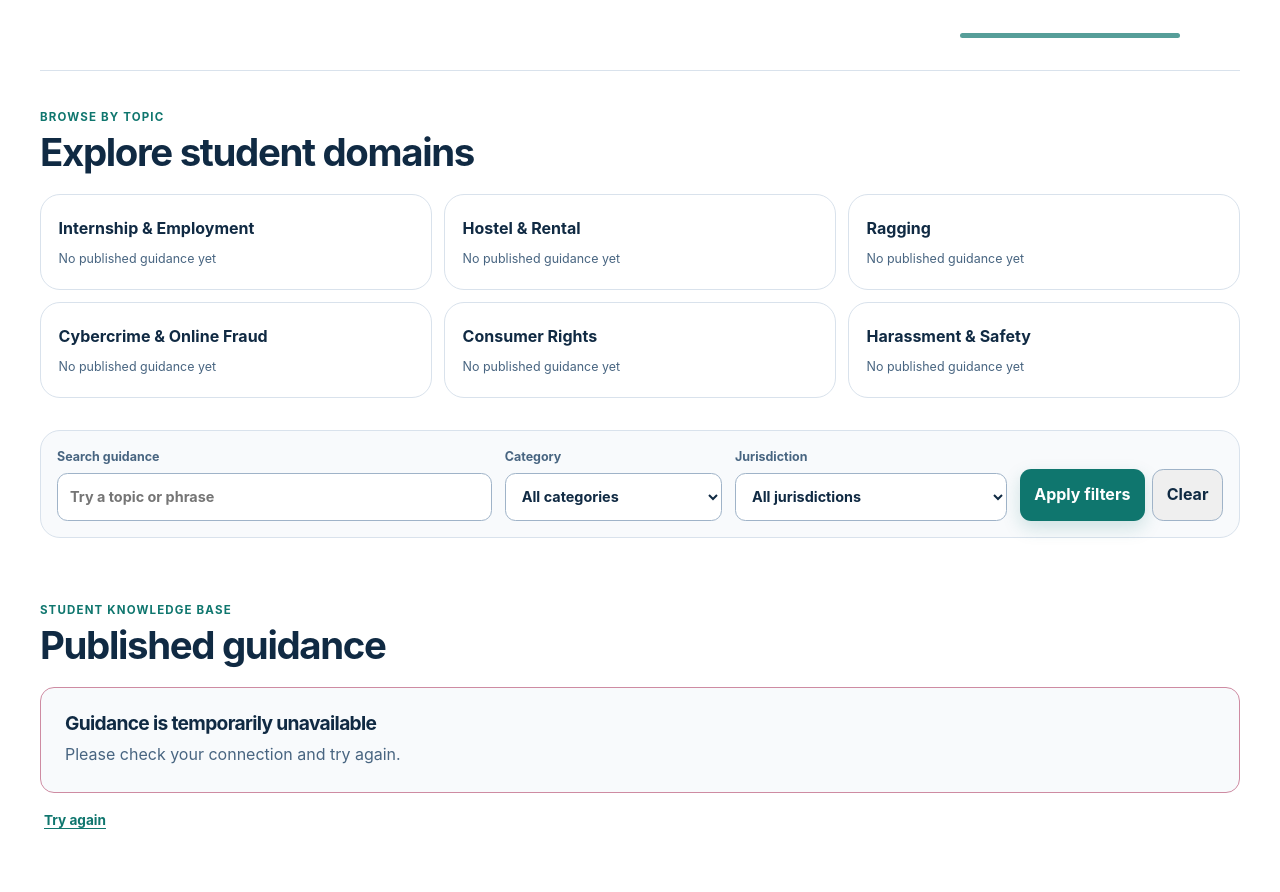
Scenario: Rights Explorer › keeps API errors generic and retries the list
(page scrolled)
Check: the heading "Guidance is temporarily unavailable" is shown, box [65, 711, 376, 735]
Click the button "Try again": coordinates (75, 821) [40, 800, 110, 842]
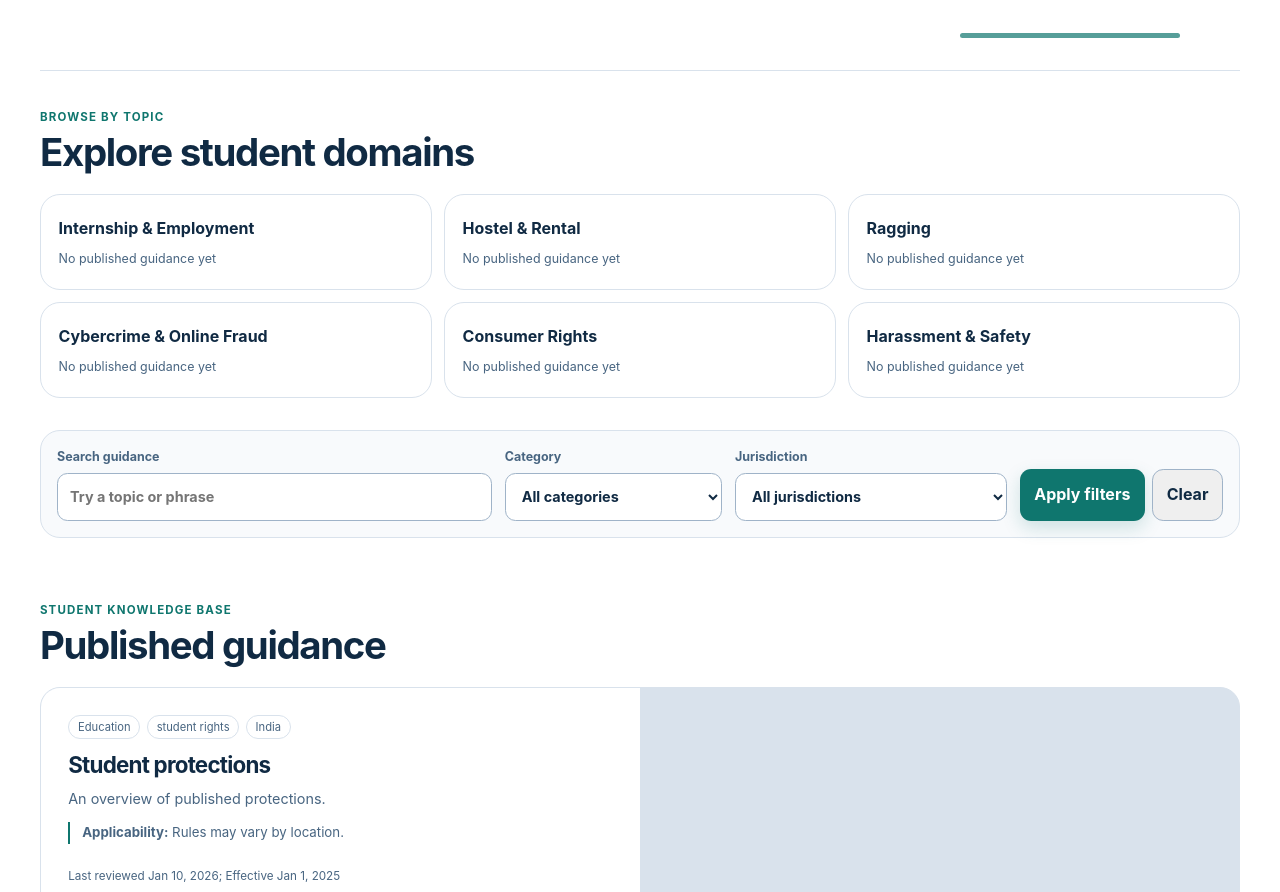
Check: the heading "Student protections" is shown, box [68, 752, 270, 779]
